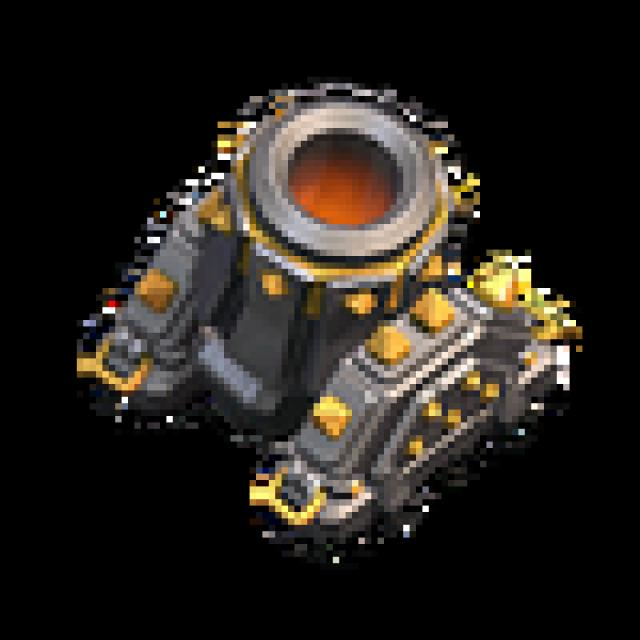mortar: (76, 86, 620, 566)
